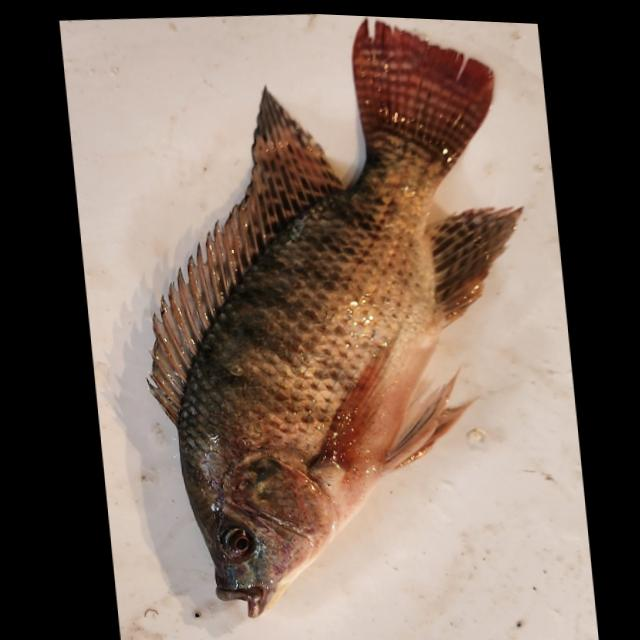Tilapia: (109, 5, 558, 638)
